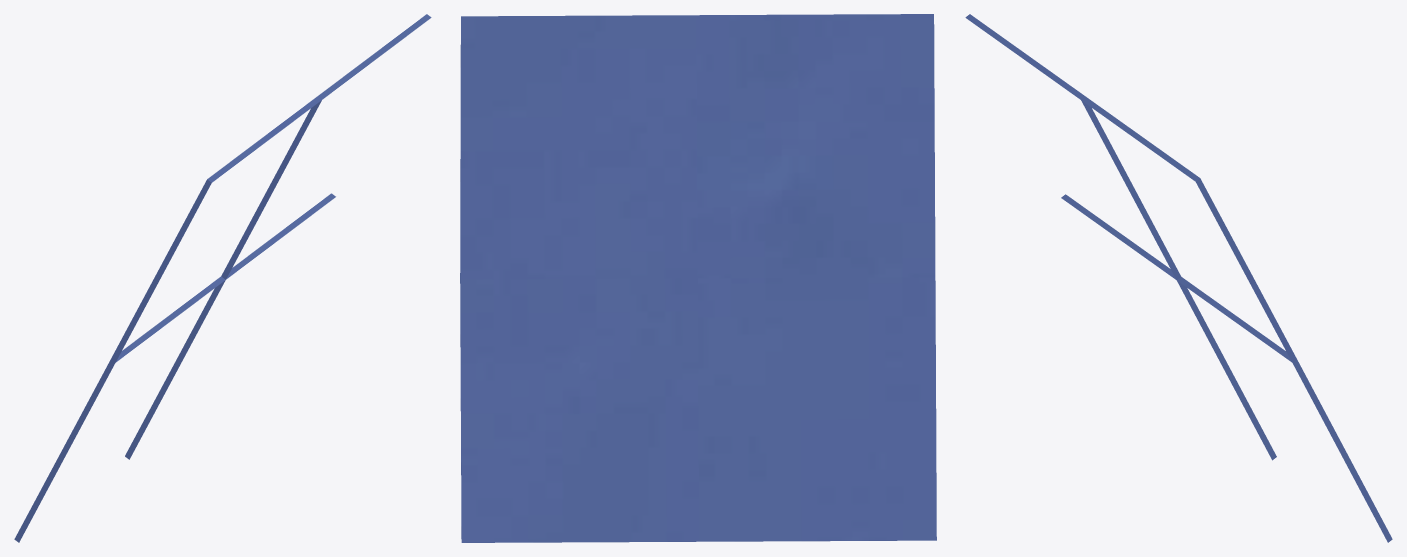
The picture shows the model from 3 angles, left to right: view 1: azimuth 30°, elevation 25°; view 2: azimuth 150°, elevation 25°; view 3: azimuth 270°, elevation 25°; orthographic projection. The views are drawn at different scales.
Size of the model in its own units: 19690 by 17687 by 16678.
Materials: 1 (1 with a texture image).
